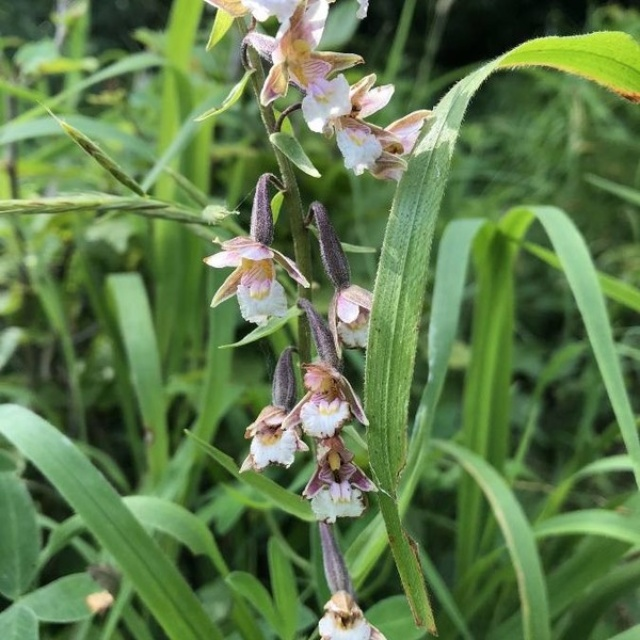obstacle: (160, 21, 543, 613)
